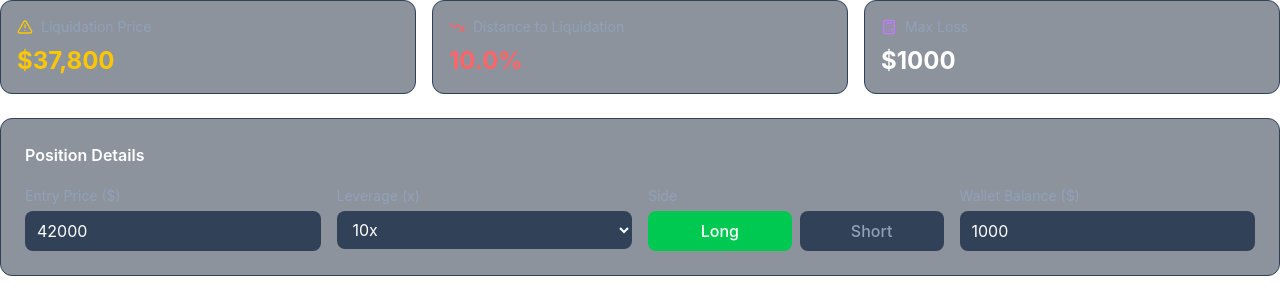
Test: LiquidationCalculator › calculates correct liquidation for short position
The width and height of the screenshot is (1280, 293).
Note: Click Short button
Click the button "Short": (872,231) [800,211,944,251]
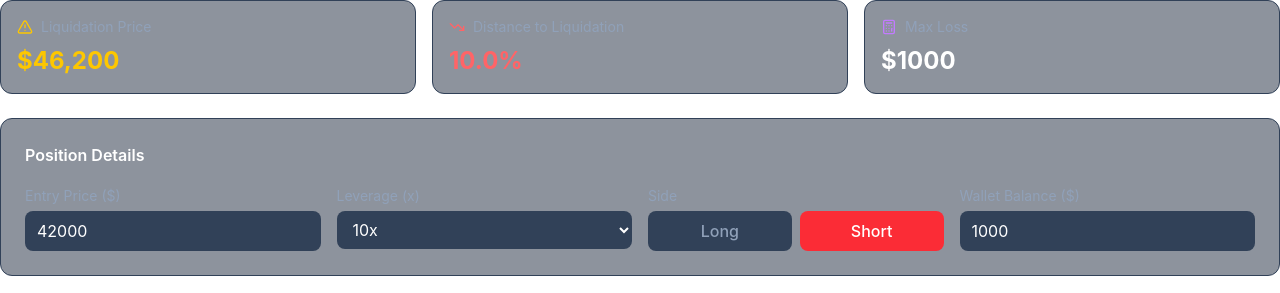
Check: the text "46,200" is shown, box [33,46,119,75]
